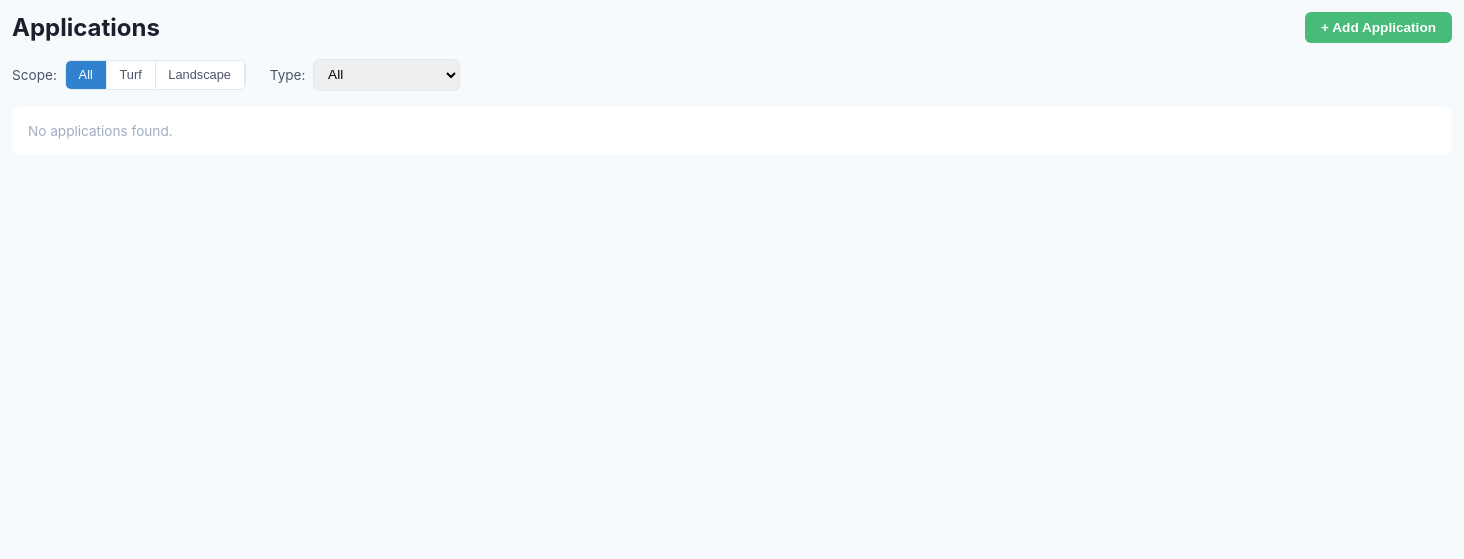
Scenario: application form › ticks a picked fungicide's classes and keeps a typed rate without a label rate
The width and height of the screenshot is (1464, 559).
Click the button "+ Add Application" at (1379, 28), box [1305,12,1452,43]
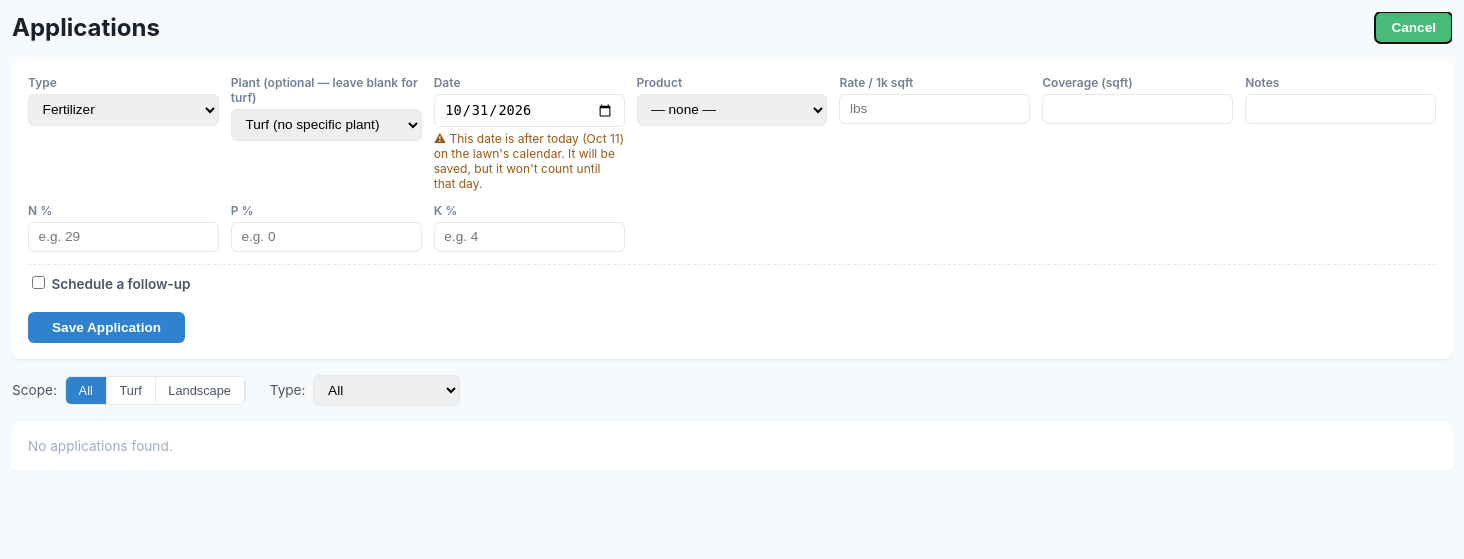
Select "Fungicide" in the dropdown labelled "Type" at (123, 110), box [28,94,219,126]
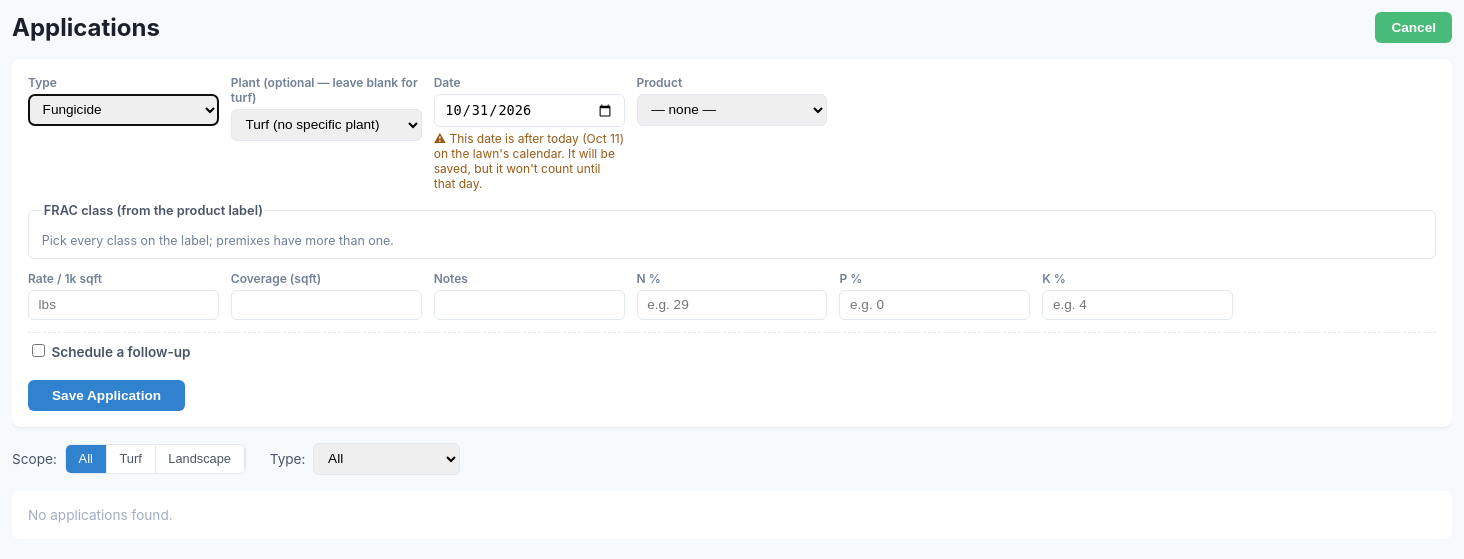
Type "3" into the number field labelled "Rate / 1k sqft" at (123, 305), box [28,290,219,320]
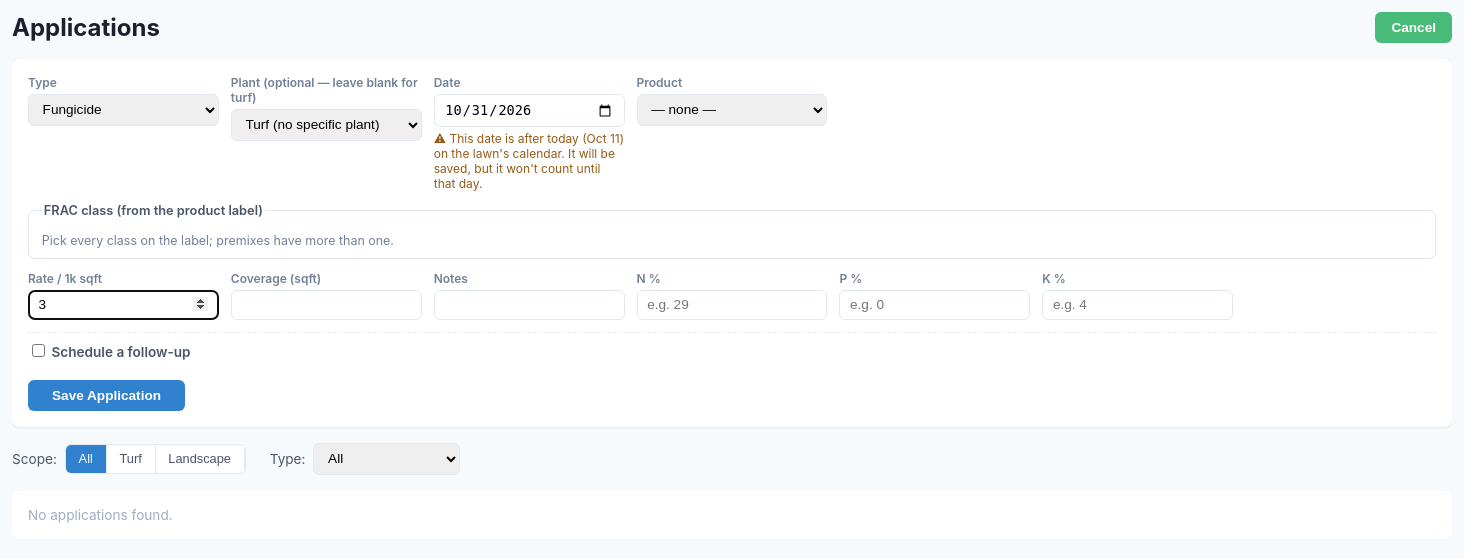
Select "Headway G" in the dropdown labelled "Product" at (732, 110), box [637,94,828,126]
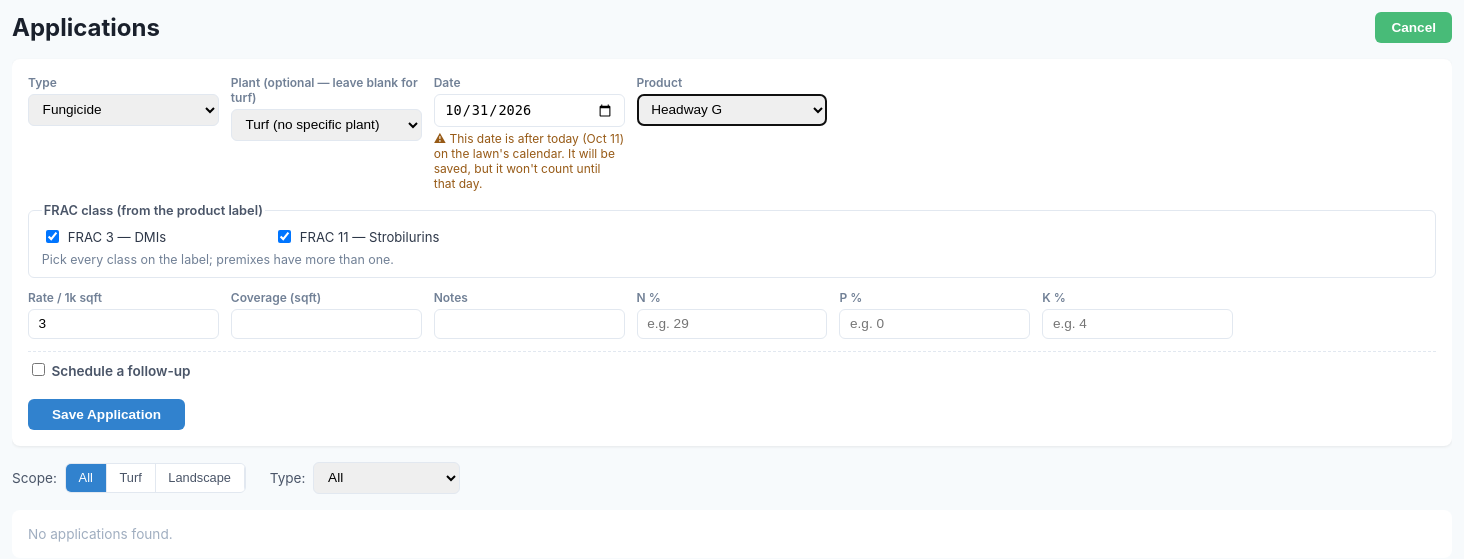
Expected: the checkbox labelled "FRAC 3 — DMIs" is checked, [46,230,59,243]
Expected: the checkbox labelled "FRAC 11 — Strobilurins" is checked, [278,230,291,243]
